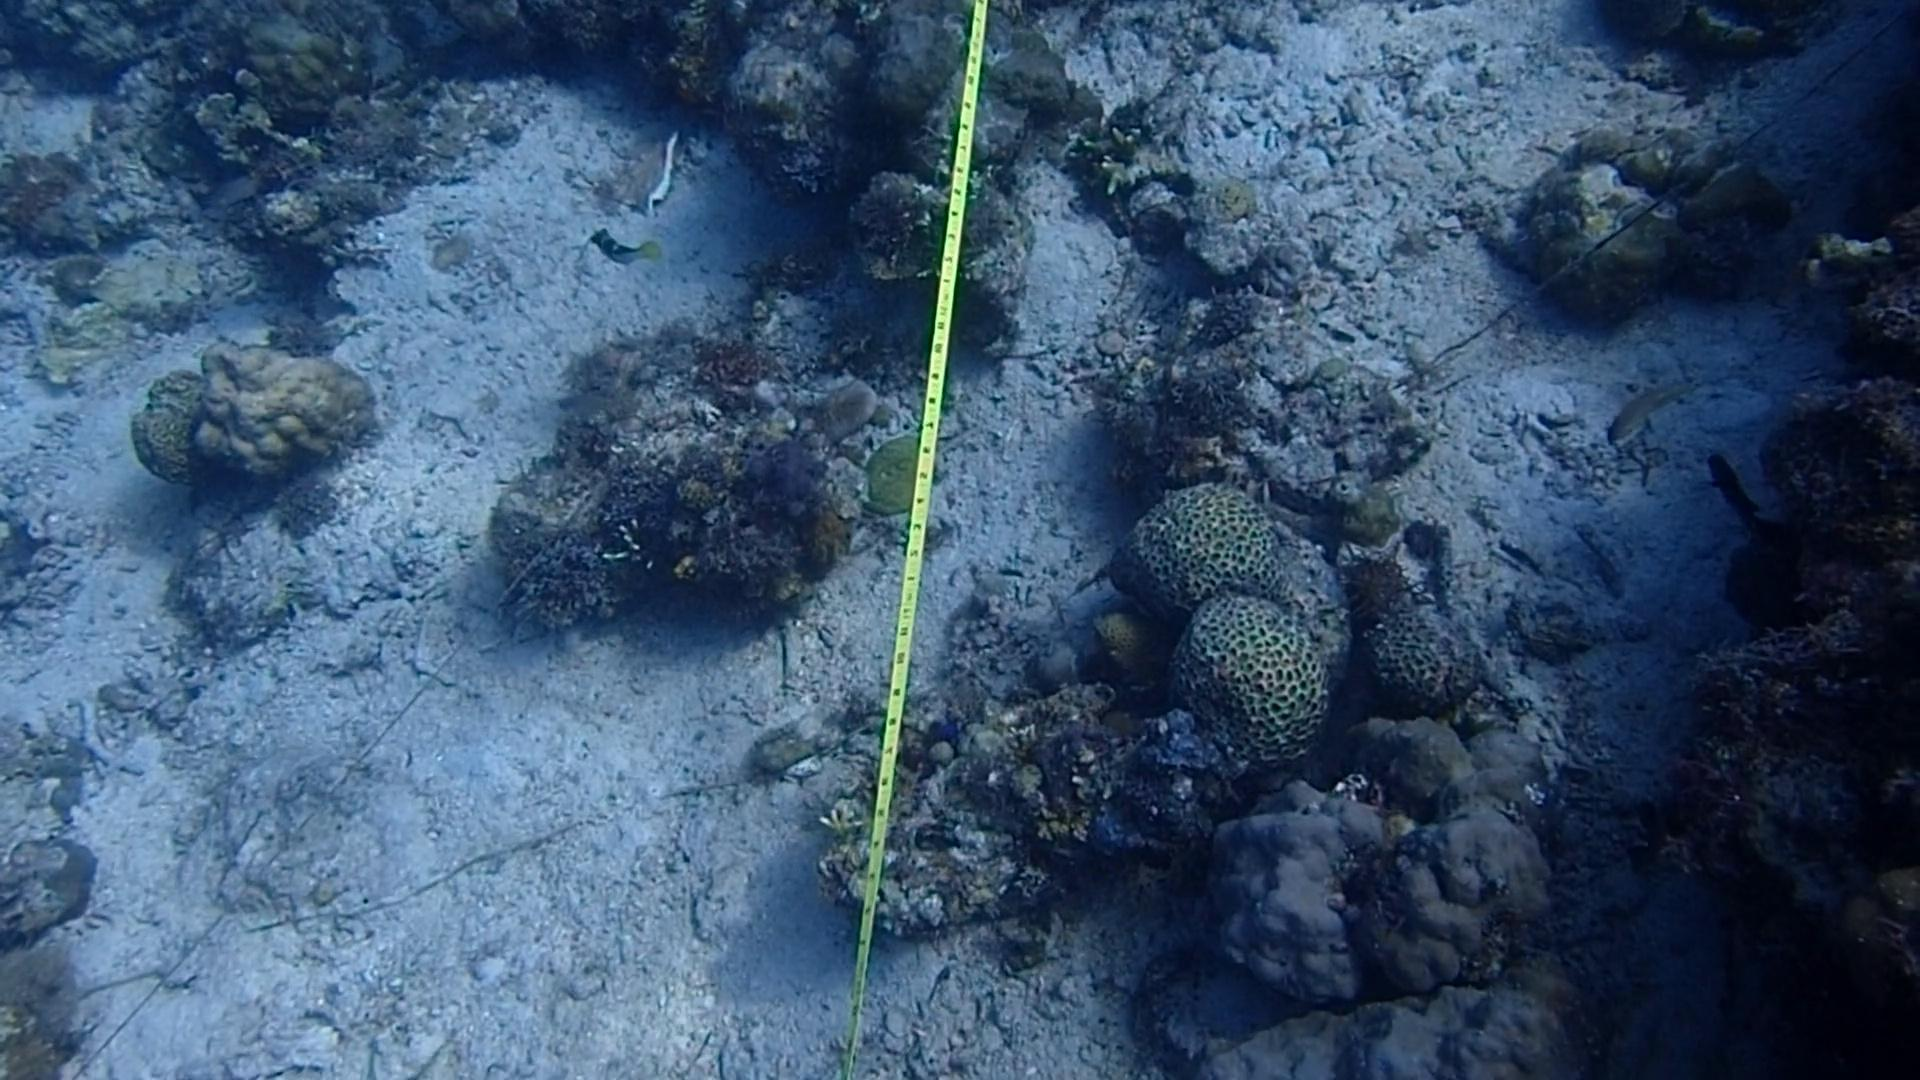Striped Fish: (585, 218, 659, 274)
